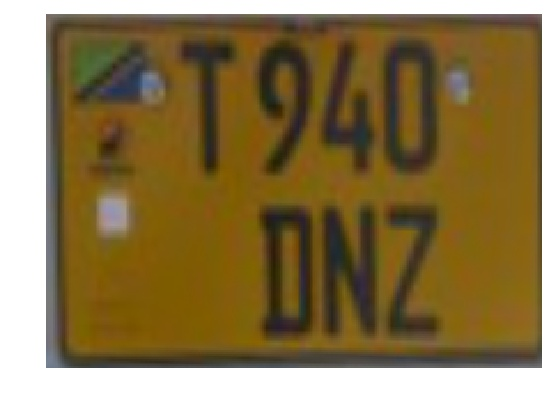T: (169, 33, 250, 184)
